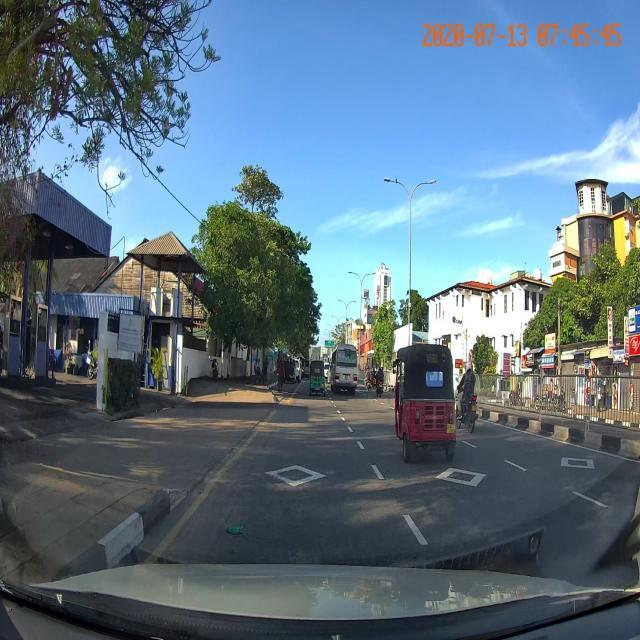diamond: (207, 460, 394, 494)
